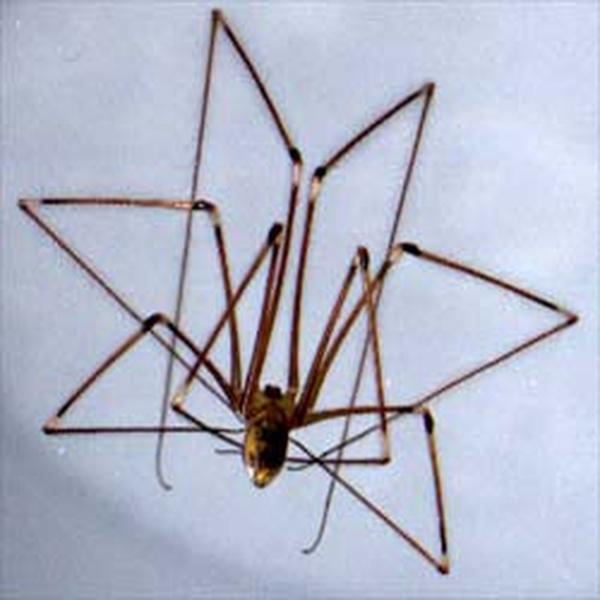Daddy Long Legs Spider: (27, 13, 577, 576)
